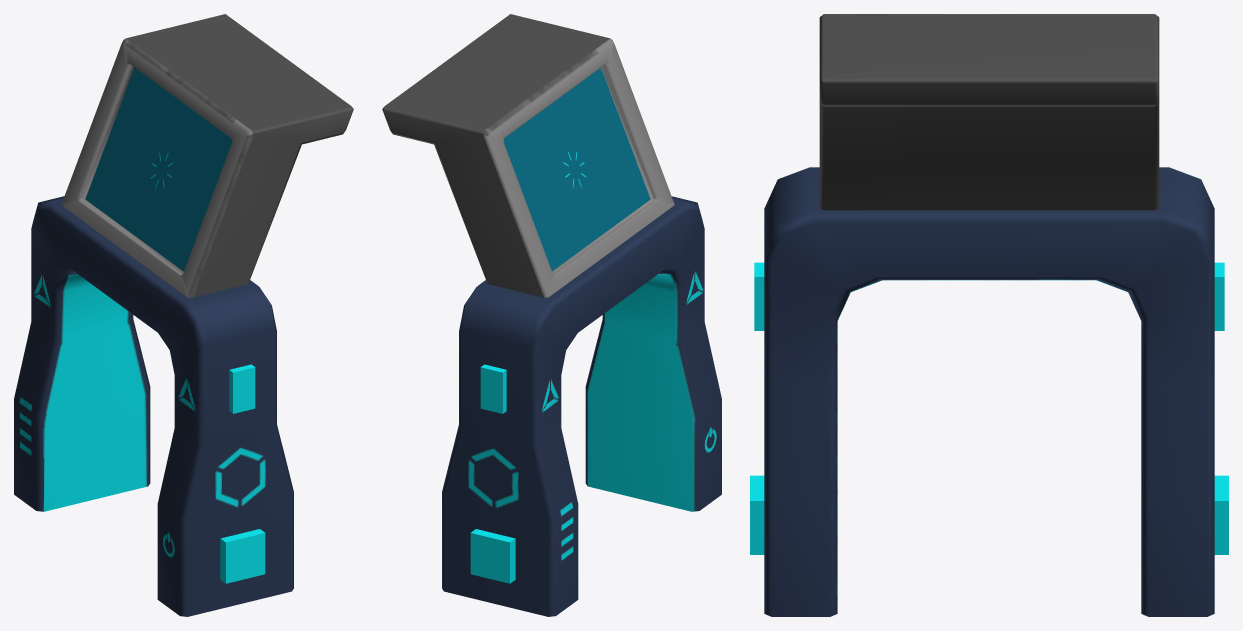
The model's file is SM_Props_06.fbx.
3 views of the same model, side by side, from view 1: azimuth 30°, elevation 25°; view 2: azimuth 150°, elevation 25°; view 3: azimuth 270°, elevation 25° (orthographic). The views are drawn at different scales.
Parts seen in each view (by area): view 1: SM_Props_06; view 2: SM_Props_06; view 3: SM_Props_06.
Part boxes in pixels (x1,y1,x2,y2): SM_Props_06: (14,14,353,616); SM_Props_06: (382,14,721,616); SM_Props_06: (750,14,1228,616).
Bounding box in the file's own units: 45.04 × 73.49 × 99.68.
Materials: 1 (1 with a texture image).
